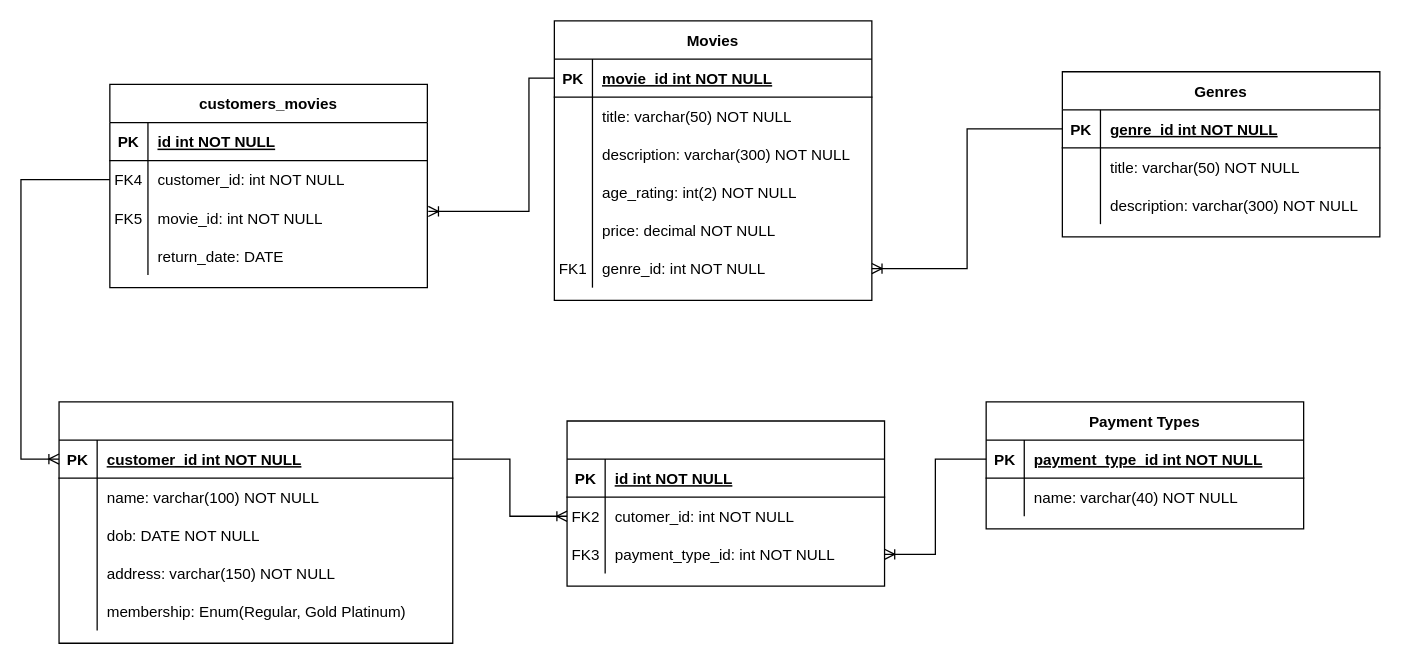
Image size: 1401x664. Some labels were removed from this diagram. Here are the shapes that lost their labels. From the top down, the box of each, then its label:
(58, 401, 453, 643): Customers
(566, 420, 885, 586): customers_payment_types
